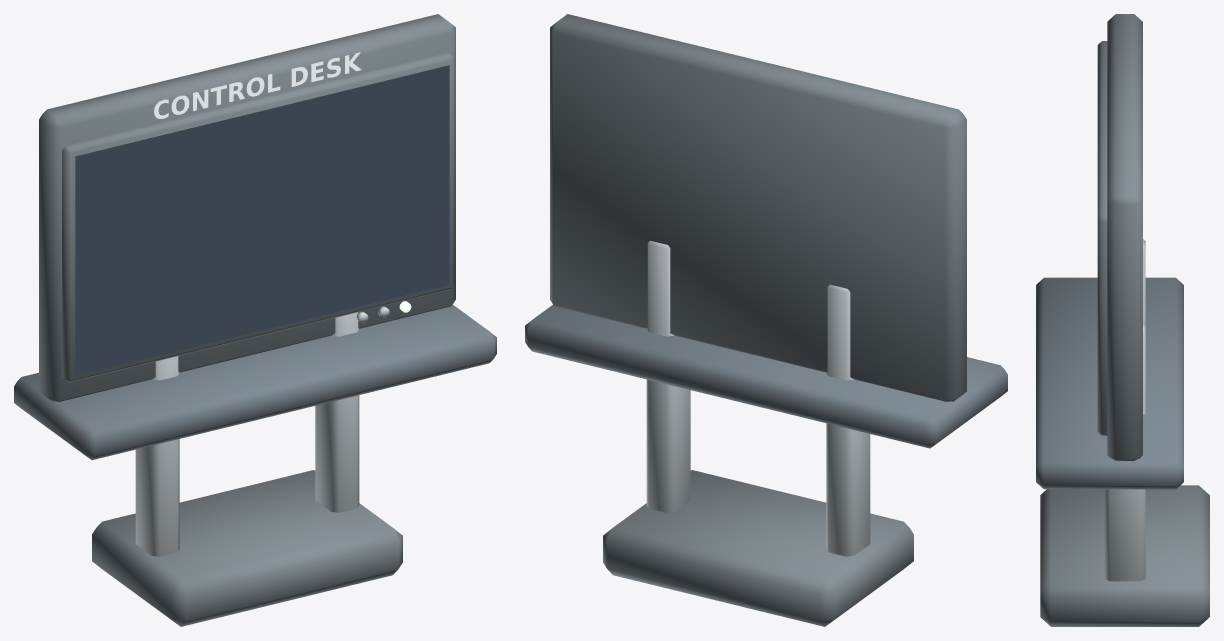
File: control_desk_standard.glb
The picture shows the model from 3 angles, left to right: view 1: azimuth 30°, elevation 25°; view 2: azimuth 150°, elevation 25°; view 3: azimuth 270°, elevation 25°; orthographic projection. The views are drawn at different scales.
Visible parts, largest first — view 1: LiveViewSurface_glass, Desk_graphite, Base_frame, DisplayHousing_frame, LiveViewSurfaceFrame_frame, Support_steel, TypeLabel_white; view 2: DisplayHousing_frame, Base_frame, Desk_graphite, Support_steel; view 3: Desk_graphite, Base_frame, DisplayHousing_frame, Support_steel, LiveViewSurfaceFrame_frame.
Boxes of the visible parts, <box> form: LiveViewSurface_glass: <box>75,65,449,375</box>; Desk_graphite: <box>14,305,496,460</box>; Base_frame: <box>92,470,402,626</box>; DisplayHousing_frame: <box>39,14,455,401</box>; LiveViewSurfaceFrame_frame: <box>62,52,454,382</box>; Support_steel: <box>135,312,359,556</box>; TypeLabel_white: <box>154,52,361,118</box>; DisplayHousing_frame: <box>550,14,966,401</box>; Base_frame: <box>603,470,913,626</box>; Desk_graphite: <box>525,305,1007,448</box>; Support_steel: <box>646,240,870,556</box>; Desk_graphite: <box>1036,277,1183,489</box>; Base_frame: <box>1040,485,1209,626</box>; DisplayHousing_frame: <box>1107,14,1142,460</box>; Support_steel: <box>1104,239,1145,581</box>; LiveViewSurfaceFrame_frame: <box>1097,41,1107,435</box>.
Bounding box in the file's own units: 1.63 × 1.91 × 0.635.
